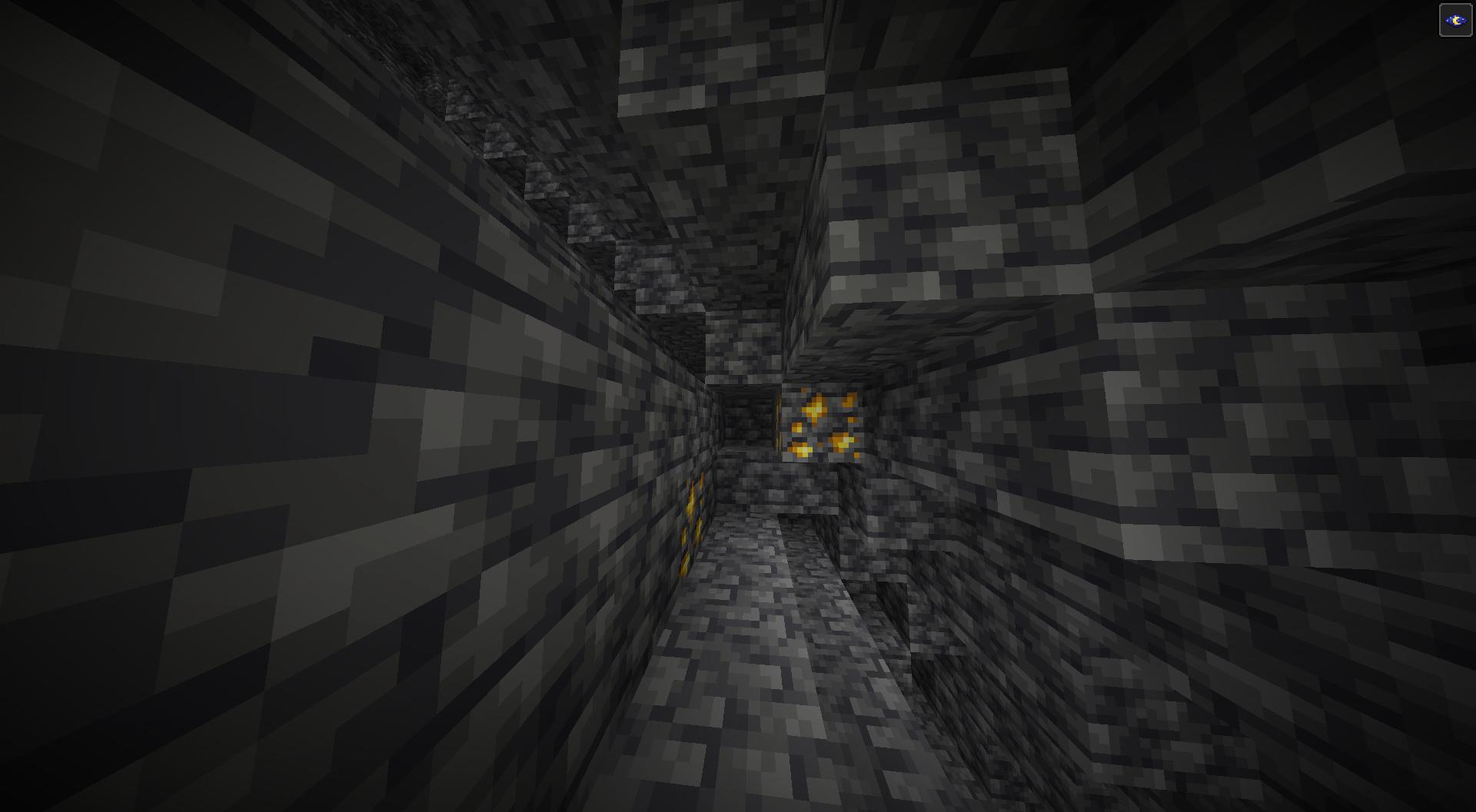gold ore: (779, 386, 862, 462), (672, 471, 705, 570)
